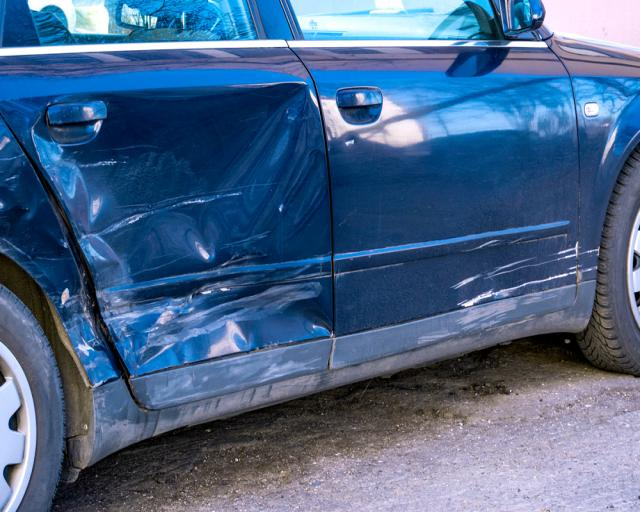dent: (33, 82, 332, 377), (0, 113, 118, 388), (342, 134, 357, 148)
scratch: (446, 232, 600, 341)
